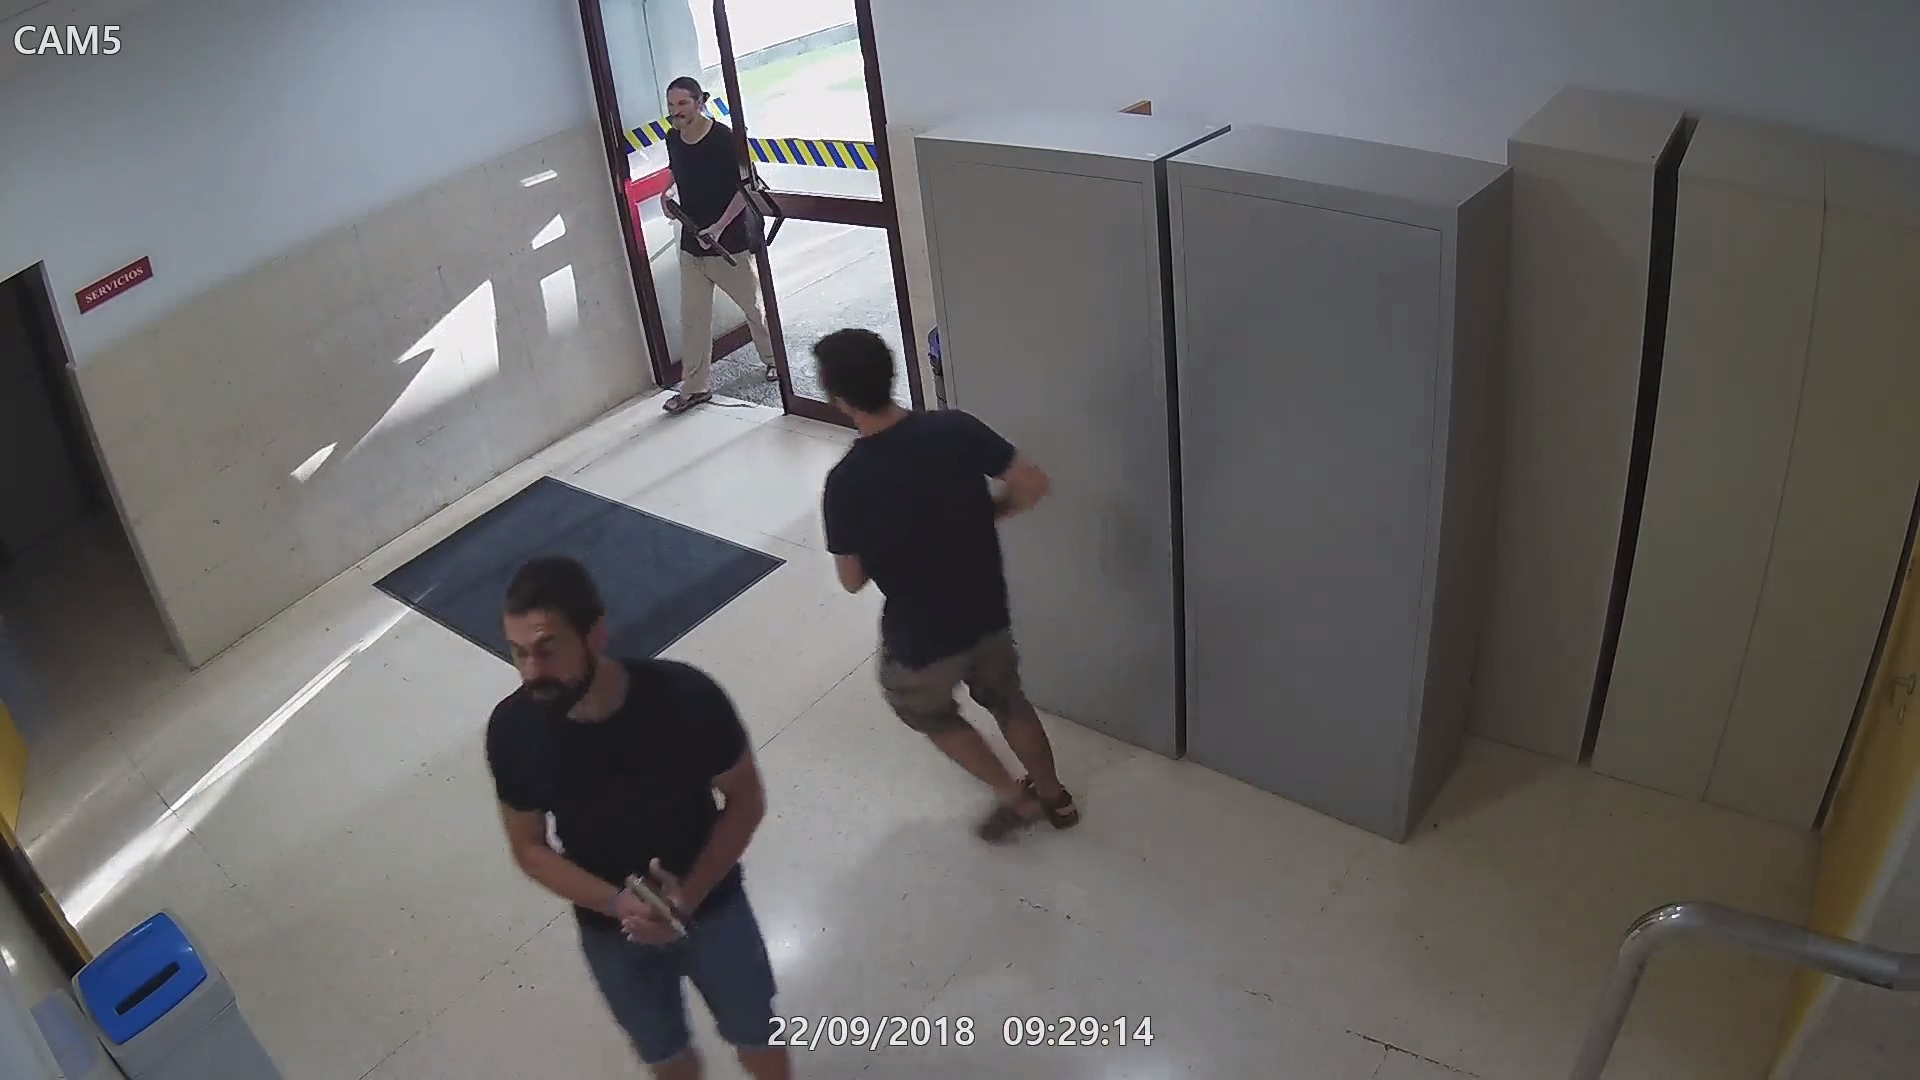Handgun: (621, 861, 698, 953)
Short_rifle: (658, 193, 742, 270)
